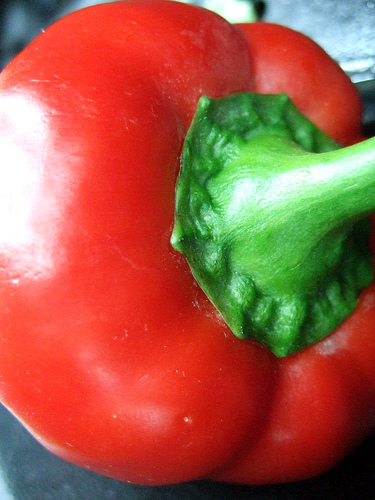capsicum: (0, 0, 373, 488)
